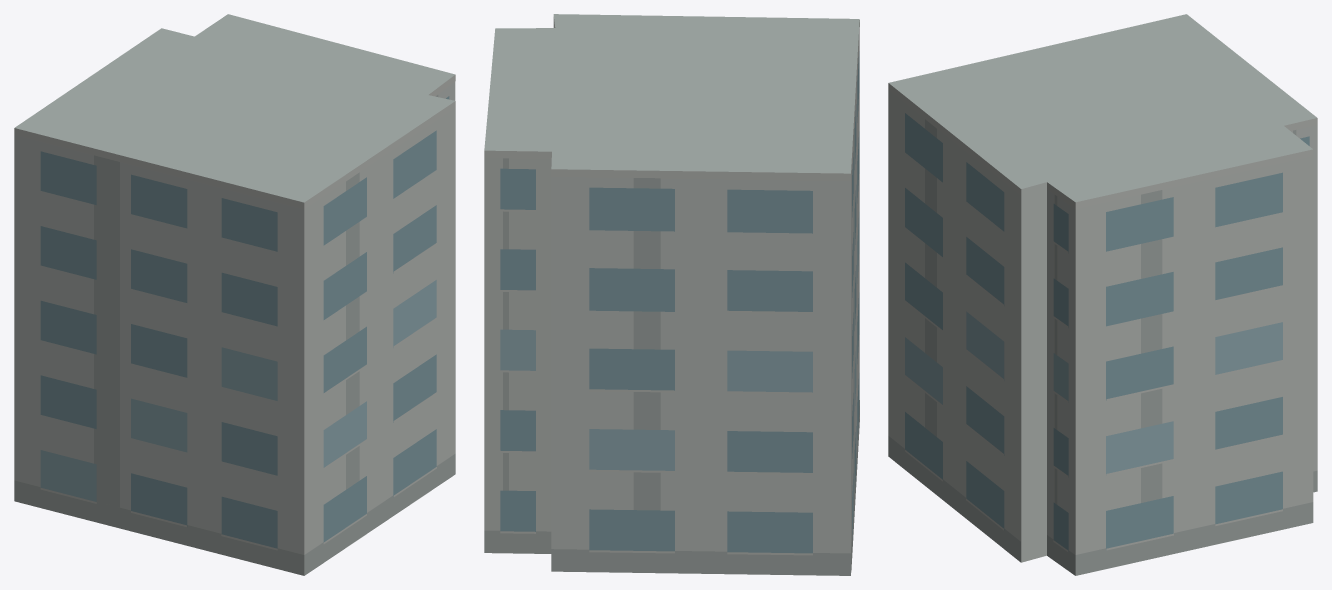
The model's file is survey-upis-32859728.glb.
3 renders of one model, left to right at view 1: azimuth 30°, elevation 25°; view 2: azimuth 150°, elevation 25°; view 3: azimuth 270°, elevation 25°, orthographic. The views are drawn at different scales.
Visible parts, largest first — view 1: survey-upis-32859728.tmp; view 2: survey-upis-32859728.tmp; view 3: survey-upis-32859728.tmp.
Boxes of the visible parts, x1,y1,x2,y2 form: survey-upis-32859728.tmp: (14,14,455,575); survey-upis-32859728.tmp: (484,14,859,575); survey-upis-32859728.tmp: (888,14,1317,575).
Size of the model in its own units: 14.28 by 13.2 by 13.75.
